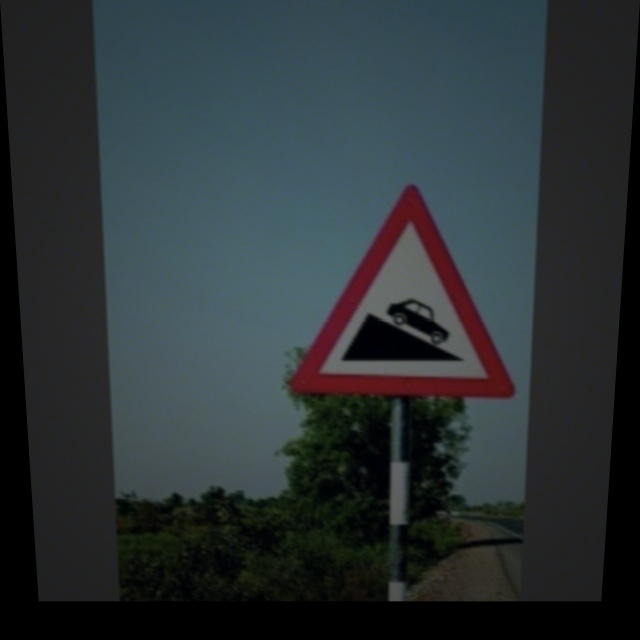Steep_Descent: (290, 186, 525, 398)
